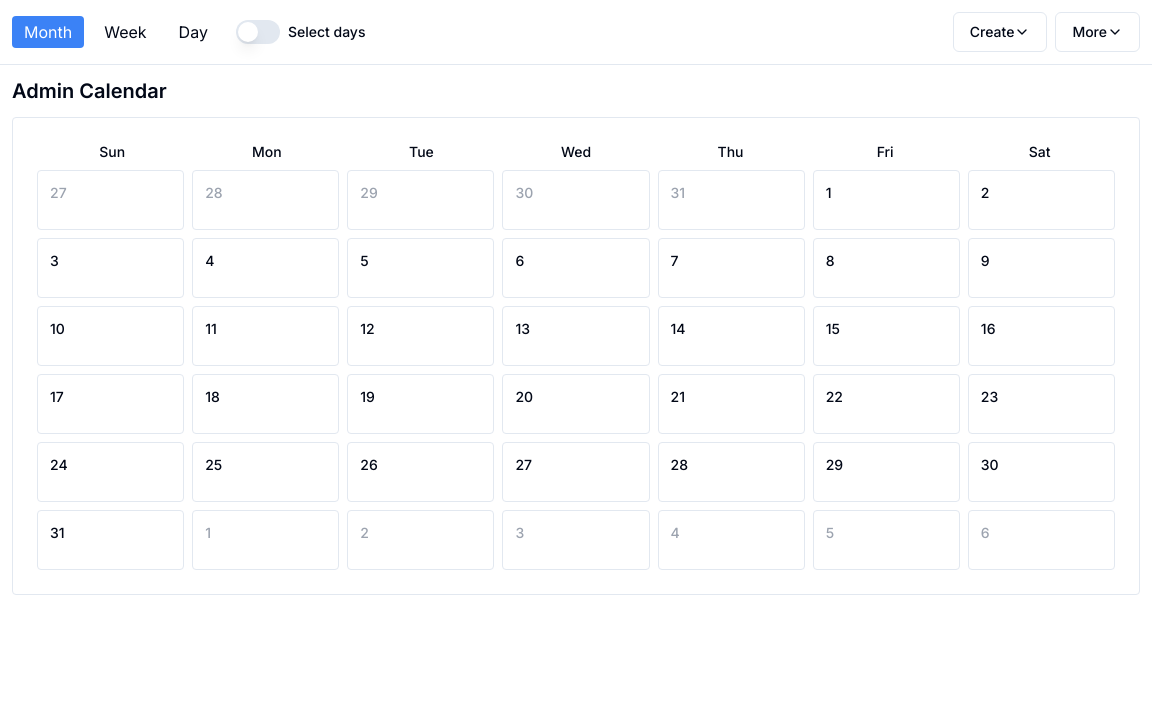
Test: Admin Calendar Behaviour › Clicking Edit Day opens DayEditorSheet
Note: Click a day
Step 1. Click the 1st button "6" → (576,268), box [502, 238, 650, 298]
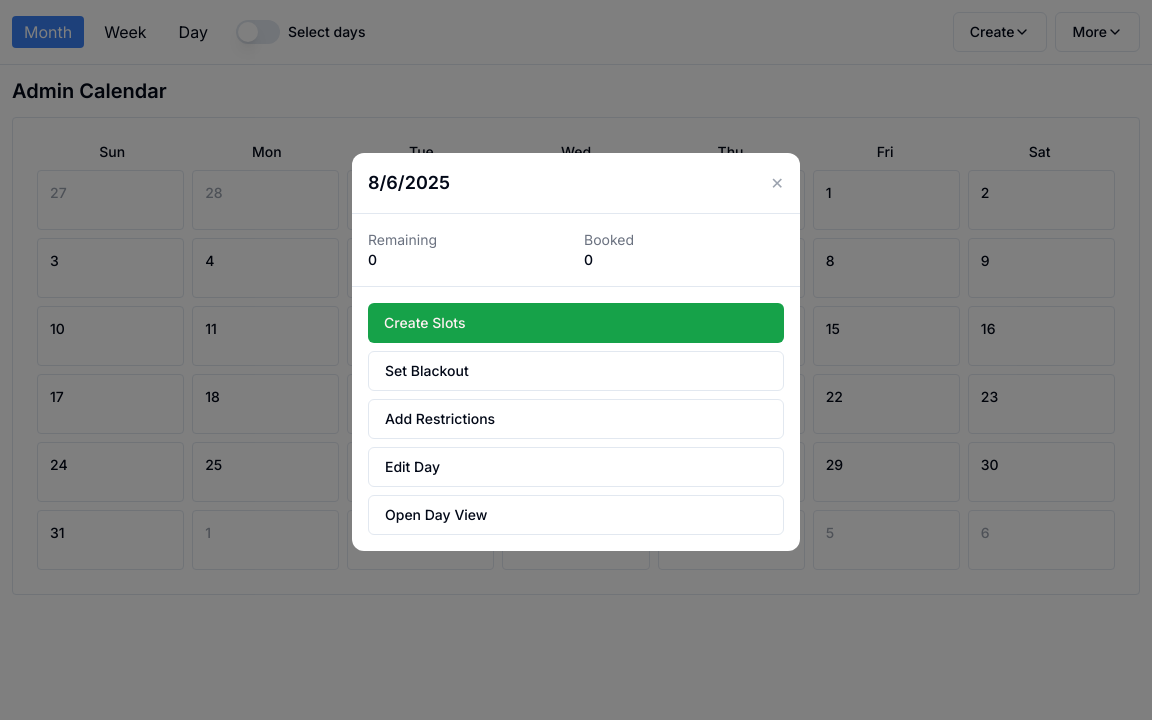
expect the button "Edit Day" is shown: met
Note: Click Edit Day button
Step 2. Click the button "Edit Day" → (413,466), box [368, 447, 784, 487]
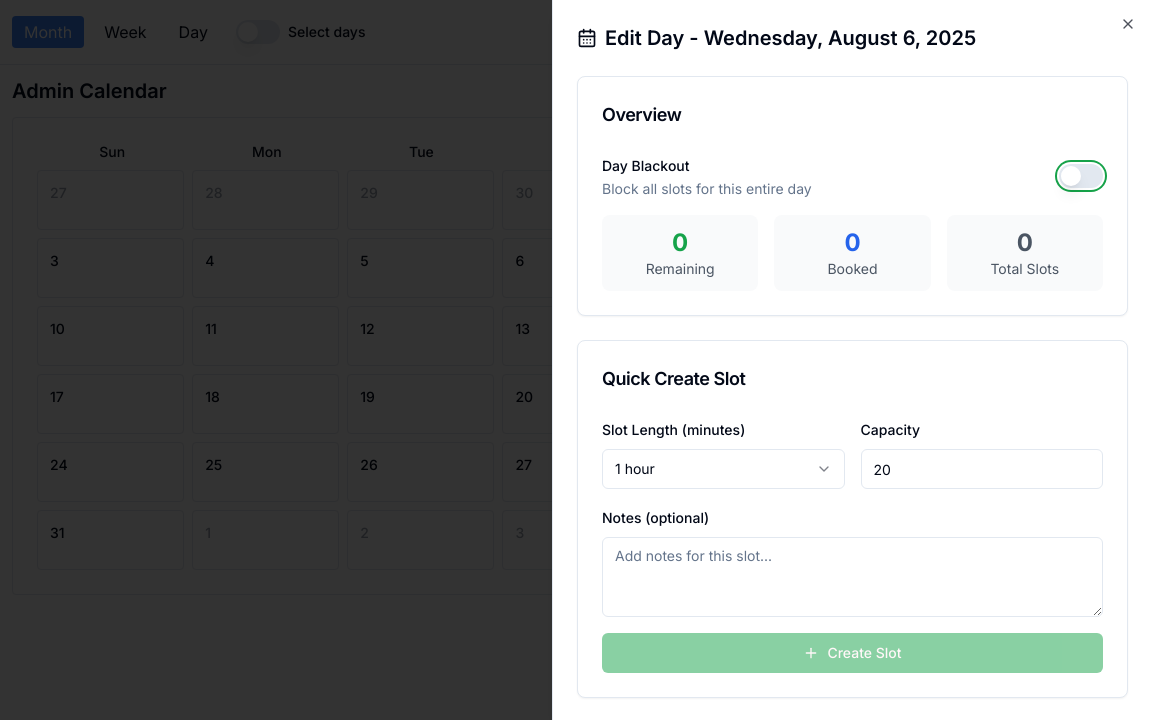
expect the heading "Quick Create Slot" is shown: met, box [602, 368, 746, 389]
